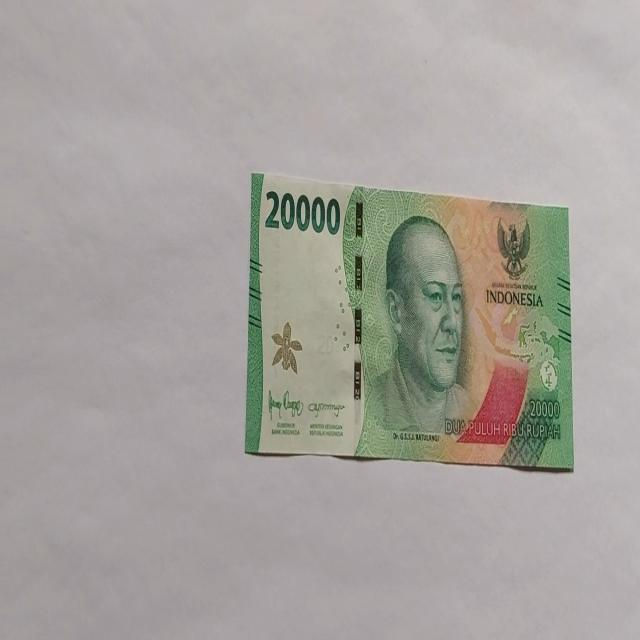dua puluh ribu rupiah: (244, 170, 574, 470), (354, 212, 480, 458)
